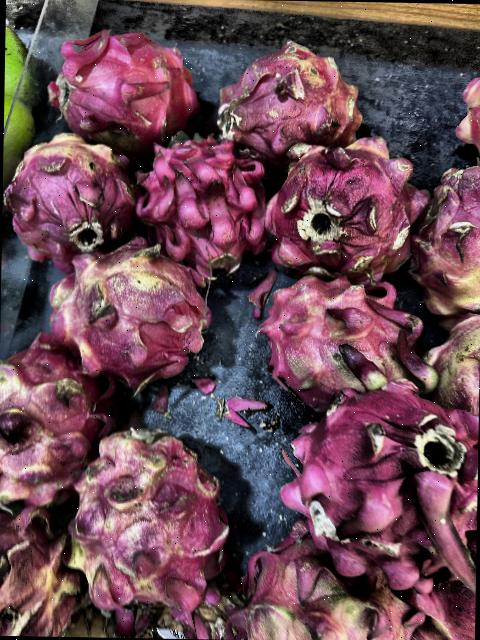buah-naga-belum-matang: (78, 424, 222, 624), (254, 266, 446, 399), (51, 241, 208, 379), (266, 144, 424, 278), (235, 528, 391, 640), (0, 345, 111, 500), (220, 36, 360, 156), (4, 127, 128, 249), (406, 161, 480, 323), (0, 508, 88, 637), (424, 298, 480, 394)
buah-naga-matang: (290, 366, 479, 588), (130, 123, 266, 270), (54, 32, 190, 132)
